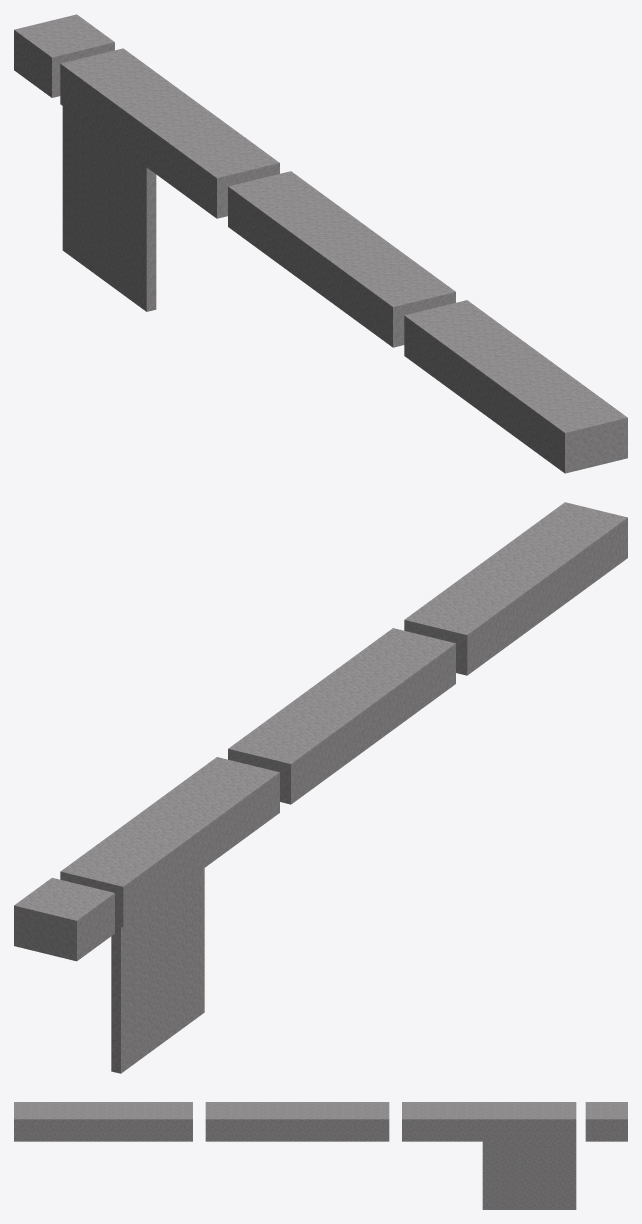
3 views of the same model, one above another, from view 1: azimuth 30°, elevation 25°; view 2: azimuth 150°, elevation 25°; view 3: azimuth 270°, elevation 25° (orthographic). The views are drawn at different scales.
Parts seen in each view (by area): view 1: 0_3_1_2_1_2_2_0; view 2: 0_3_1_2_1_2_2_0; view 3: 0_3_1_2_1_2_2_0.
Boxes of the visible parts, x1=… form: 0_3_1_2_1_2_2_0: x1=14, y1=14, x2=627, y2=473; 0_3_1_2_1_2_2_0: x1=14, y1=502, x2=627, y2=1073; 0_3_1_2_1_2_2_0: x1=14, y1=1102, x2=627, y2=1209.
Size of the model in its own units: 1.3 by 3.7 by 19.71.
4 materials, 4 textured.
